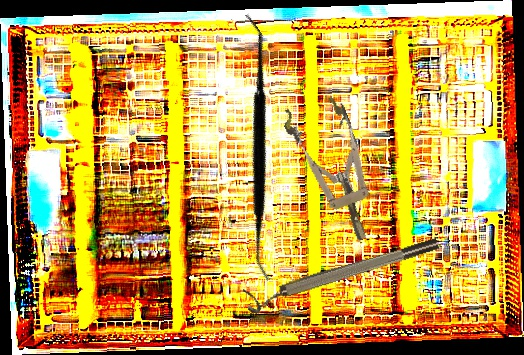Fixation Ring: (242, 234, 443, 316)
Spatula Surgical: (138, 13, 377, 282)
Speculum: (279, 90, 391, 251)
